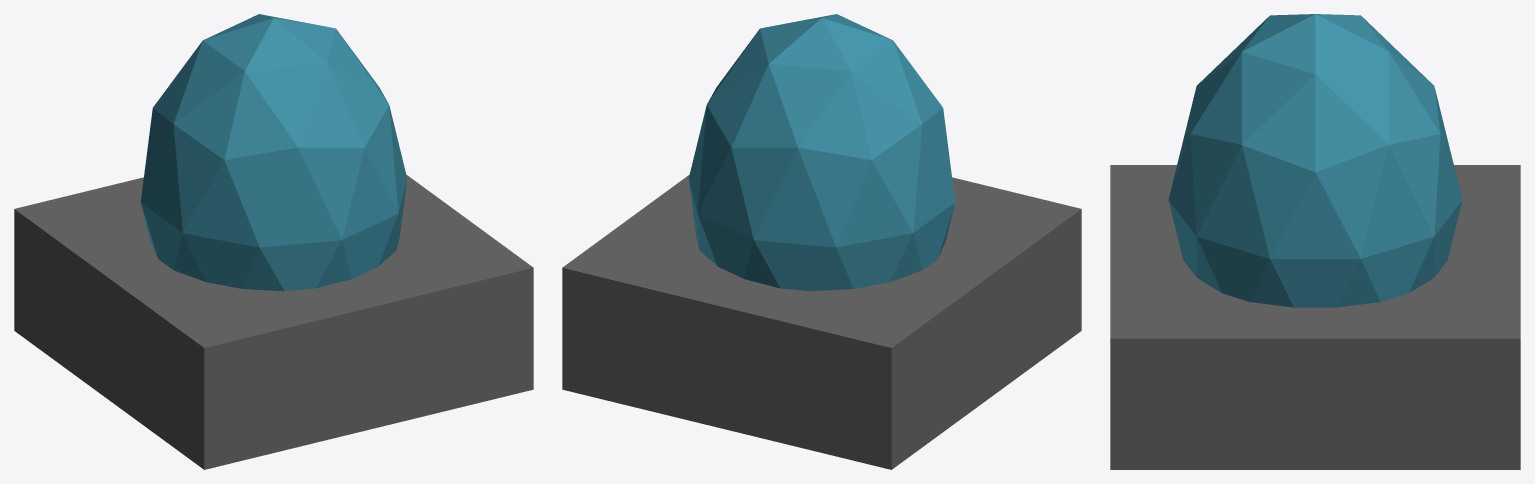
Rendered from checkpoint.obj.
3 views of the same model, side by side, from view 1: azimuth 30°, elevation 25°; view 2: azimuth 150°, elevation 25°; view 3: azimuth 270°, elevation 25° (orthographic). The views are drawn at different scales.
Parts seen in each view (by area): view 1: pedestal, jewel; view 2: pedestal, jewel; view 3: pedestal, jewel.
Part boxes in pixels (x1,y1,x2,y2): pedestal: (14,175,533,469); jewel: (140,14,407,291); pedestal: (562,175,1081,469); jewel: (688,14,955,291); pedestal: (1110,165,1520,469); jewel: (1168,14,1462,307).
Size of the model in its own units: 0.8121 by 0.8066 by 0.8121.
Materials: 2 (2 with a texture image).
